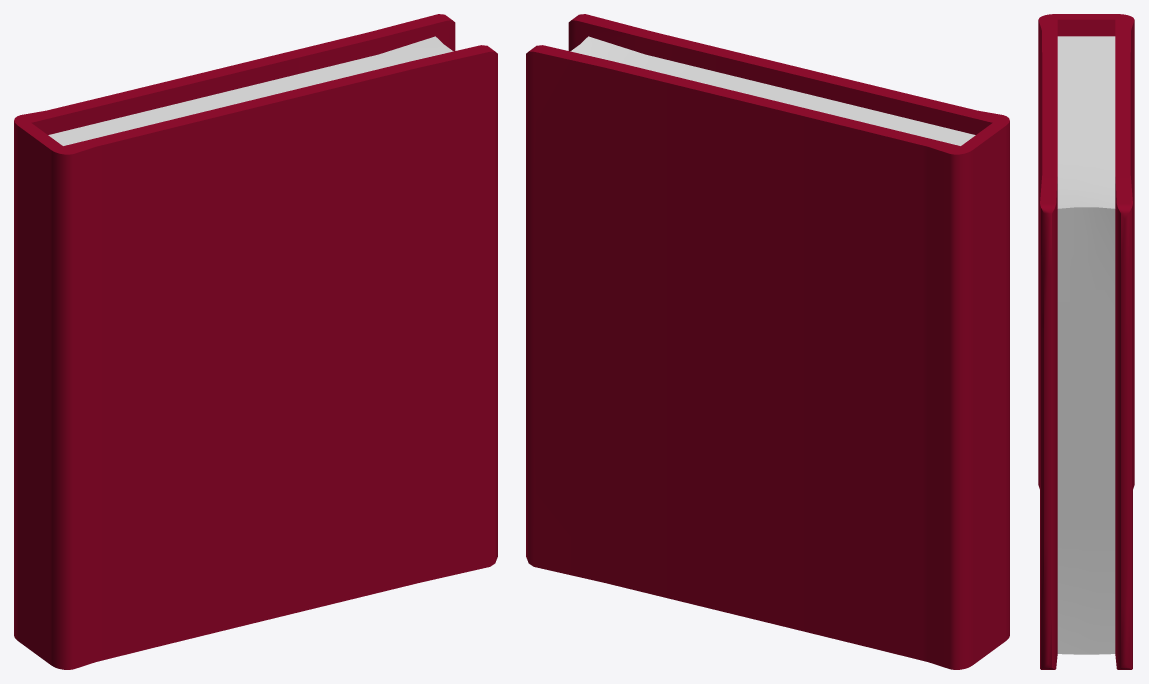
Rendered from book_red.fbx.
3 renders of one model, left to right at view 1: azimuth 30°, elevation 25°; view 2: azimuth 150°, elevation 25°; view 3: azimuth 270°, elevation 25°, orthographic. The views are drawn at different scales.
Visible parts, largest first — view 1: pCube1; view 2: pCube1; view 3: pCube1.
Boxes of the visible parts, <box> form: pCube1: <box>14,14,497,669</box>; pCube1: <box>526,14,1009,669</box>; pCube1: <box>1038,14,1134,669</box>.
Bounding box in the file's own units: 23.21 × 25.88 × 4.84.
